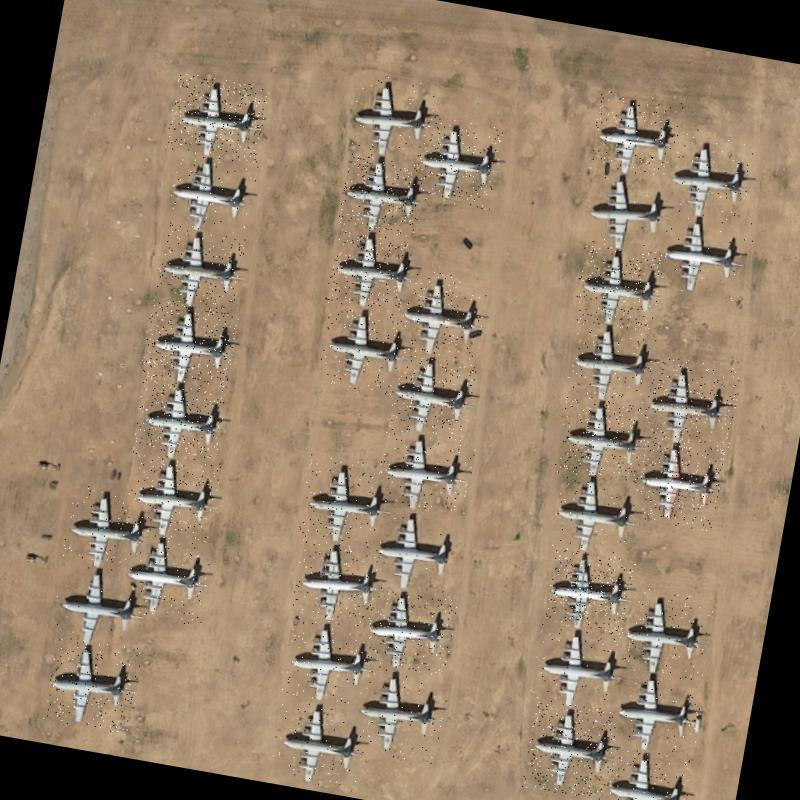A9: (640, 354, 742, 461), (661, 123, 759, 230), (346, 664, 450, 764), (43, 634, 145, 735), (520, 697, 619, 800), (295, 454, 394, 554), (619, 586, 716, 688), (268, 699, 372, 794), (371, 429, 476, 523), (123, 449, 222, 548), (165, 71, 270, 164), (608, 670, 714, 762), (393, 268, 490, 366), (631, 433, 727, 532), (115, 532, 215, 627), (656, 209, 756, 304), (588, 89, 684, 186), (526, 620, 624, 715), (357, 586, 459, 677), (368, 503, 465, 598), (553, 394, 650, 489), (130, 376, 228, 470), (549, 470, 648, 562), (345, 71, 439, 167), (411, 115, 504, 212), (140, 300, 240, 390), (572, 240, 665, 336), (46, 557, 138, 654), (282, 617, 380, 708), (317, 300, 407, 396), (154, 222, 247, 314), (386, 350, 478, 443), (290, 537, 382, 630), (565, 316, 658, 408), (60, 484, 150, 578), (582, 167, 674, 258), (544, 546, 636, 636), (164, 150, 260, 236), (324, 228, 414, 316), (338, 154, 426, 239), (599, 746, 695, 800)
